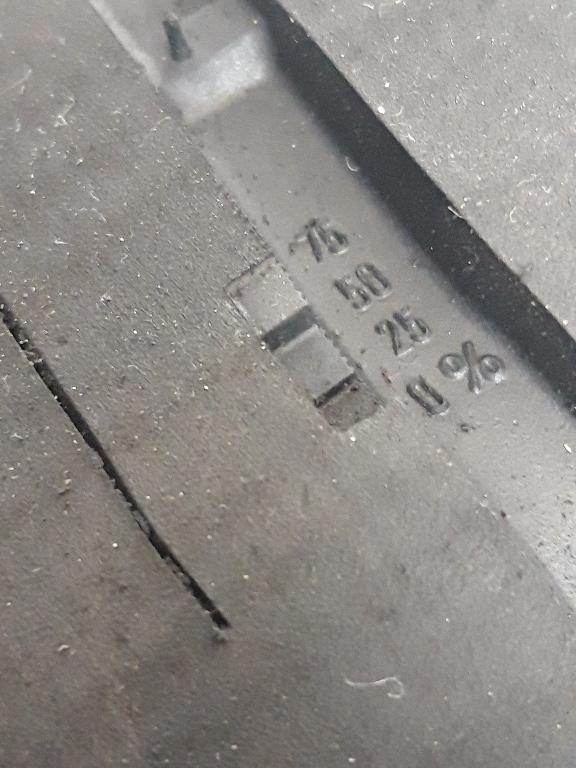temoin:50: (210, 222, 408, 454)
